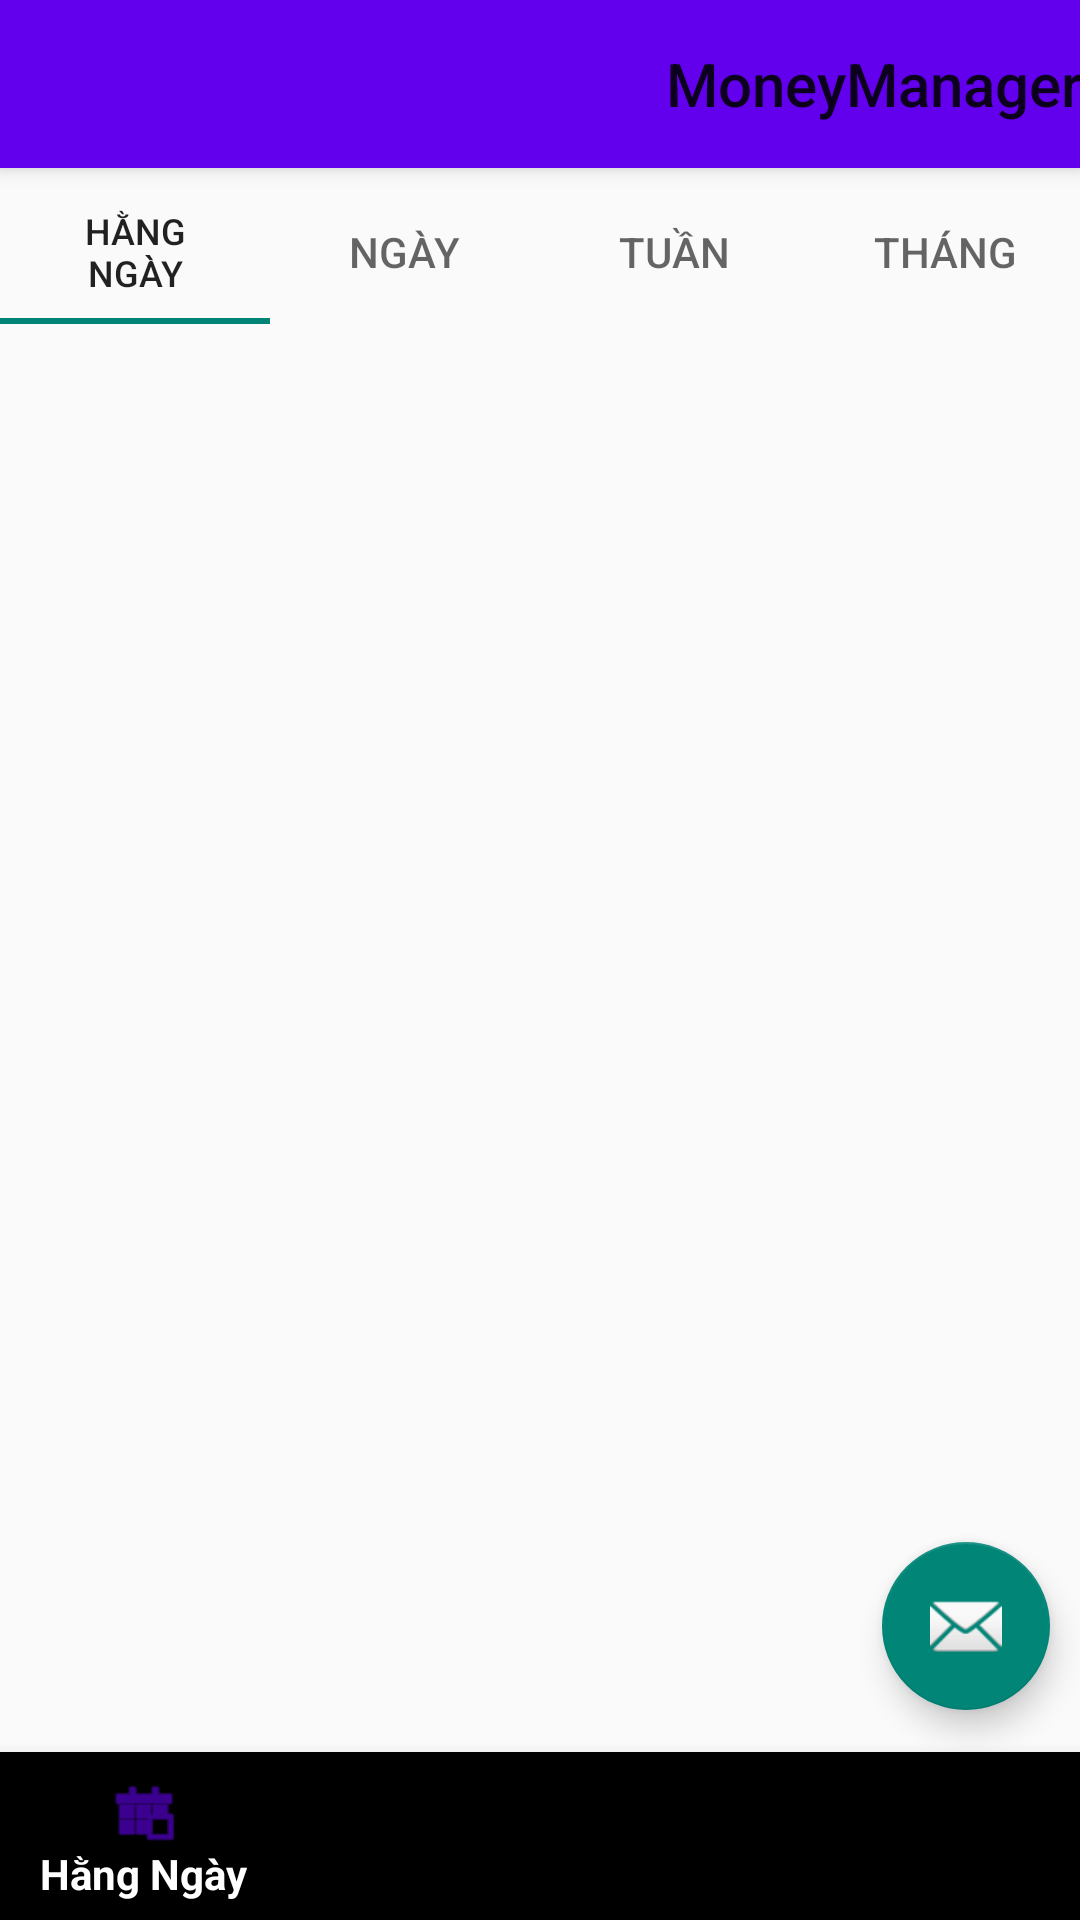

Icons on this 1080x1920 Android screen, each with its box as (x1, y1, x2, y2):
email: (882, 1542, 1050, 1710)
